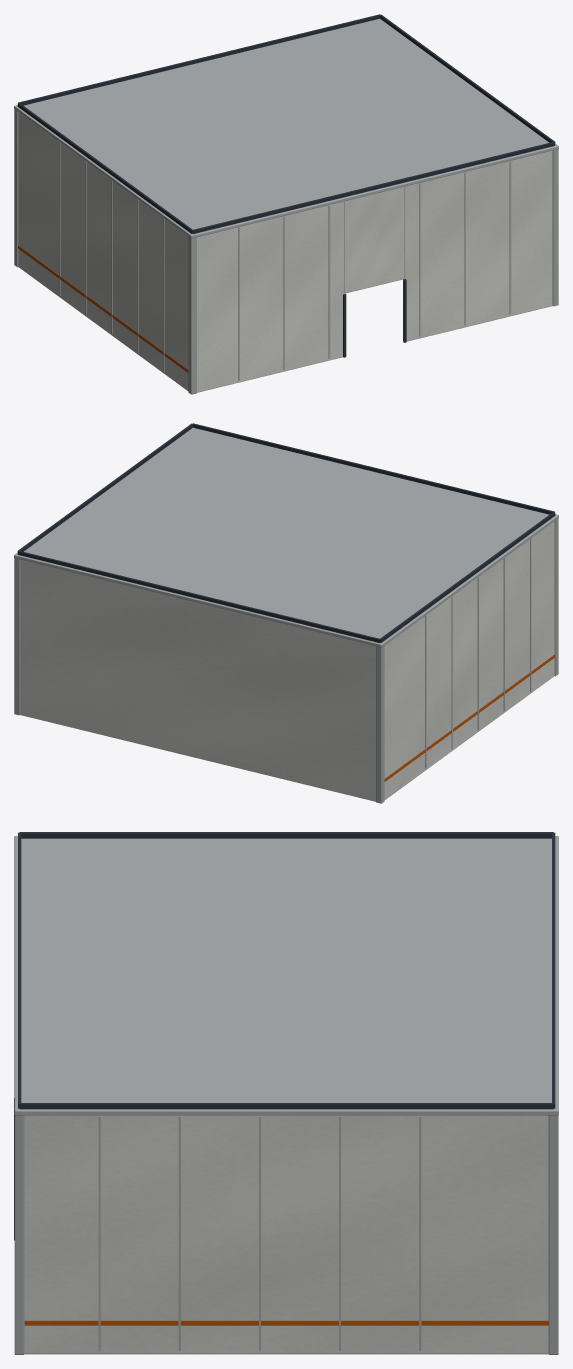
File: control_building.glb
The picture shows the model from 3 angles, top to bottom: view 1: azimuth 30°, elevation 25°; view 2: azimuth 150°, elevation 25°; view 3: azimuth 270°, elevation 25°; orthographic projection. The views are drawn at different scales.
Visible parts, largest first — view 1: Roof.001, Side_Wall.002, Front_Wall.003, Front_Wall.002, Door_Header.001, Roof_Parapet.006, Roof_Parapet.007, Corner_Pier.004, Corner_Pier.006, Roof_Parapet.004, Roof_Parapet.005, Corner_Pier.005 (+1 smaller); view 2: Roof.001, Back_Wall.001, Side_Wall.002, Roof_Parapet.007, Roof_Parapet.006, Corner_Pier.005, Corner_Pier.007, Roof_Parapet.004, Roof_Parapet.005, Corner_Pier.004, Side_IdentityStripe.002; view 3: Roof.001, Side_Wall.003, Roof_Parapet.005, Roof_Parapet.004, Side_IdentityStripe.003, Corner_Pier.006, Corner_Pier.007, Roof_Parapet.007, Roof_Parapet.006, Facade_Column.023, Facade_Column.024, Facade_Column.027.
Part boxes in pixels (x1,y1,x2,y2): Roof.001: (14, 18, 558, 238); Side_Wall.002: (18, 112, 188, 390); Front_Wall.003: (403, 150, 552, 341); Front_Wall.002: (197, 201, 344, 392); Door_Header.001: (344, 186, 404, 293); Roof_Parapet.006: (192, 142, 554, 233); Roof_Parapet.007: (18, 14, 379, 105); Corner_Pier.004: (188, 236, 196, 394); Corner_Pier.006: (552, 149, 558, 306); Roof_Parapet.004: (17, 103, 192, 233); Roof_Parapet.005: (380, 14, 555, 144); Corner_Pier.005: (14, 109, 18, 267); Roof.001: (14, 427, 558, 647); Back_Wall.001: (20, 559, 375, 801); Side_Wall.002: (384, 521, 554, 799); Roof_Parapet.007: (18, 551, 380, 642); Roof_Parapet.006: (193, 423, 554, 514); Corner_Pier.005: (376, 645, 384, 803); Corner_Pier.007: (14, 558, 20, 715); Roof_Parapet.004: (380, 512, 555, 642); Roof_Parapet.005: (17, 423, 192, 553); Corner_Pier.004: (554, 518, 558, 676); Side_IdentityStripe.002: (384, 654, 554, 781); Roof.001: (14, 836, 558, 1115); Side_Wall.003: (24, 1115, 548, 1354); Roof_Parapet.005: (19, 1103, 553, 1109); Roof_Parapet.004: (19, 832, 553, 838); Side_IdentityStripe.003: (24, 1320, 548, 1325); Corner_Pier.006: (14, 1115, 24, 1354); Corner_Pier.007: (548, 1115, 558, 1354); Roof_Parapet.007: (552, 832, 555, 1108); Roof_Parapet.006: (18, 832, 21, 1108); Facade_Column.023: (98, 1116, 100, 1351); Facade_Column.024: (178, 1116, 180, 1351); Facade_Column.027: (419, 1116, 421, 1351).
Bounding box in the file's own units: 24.4 × 10.31 × 20.41.
Materials: 4 (2 with a texture image).
